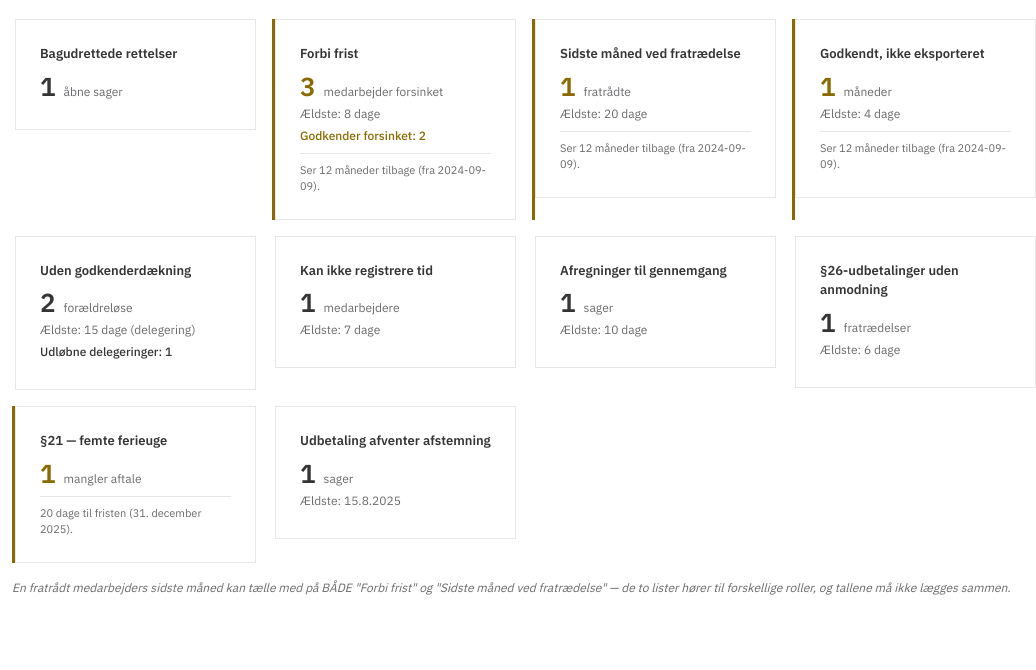
it: OpfoelgningPage — read-only lists (owner ruling OQ-4) › the payout-pending list states its action is handled via the API and offers no form
The image size is (1036, 670).
Click the button with test id "tile-payout-pending".
click(396, 472)  # box [300, 431, 491, 514]
(page scrolled)
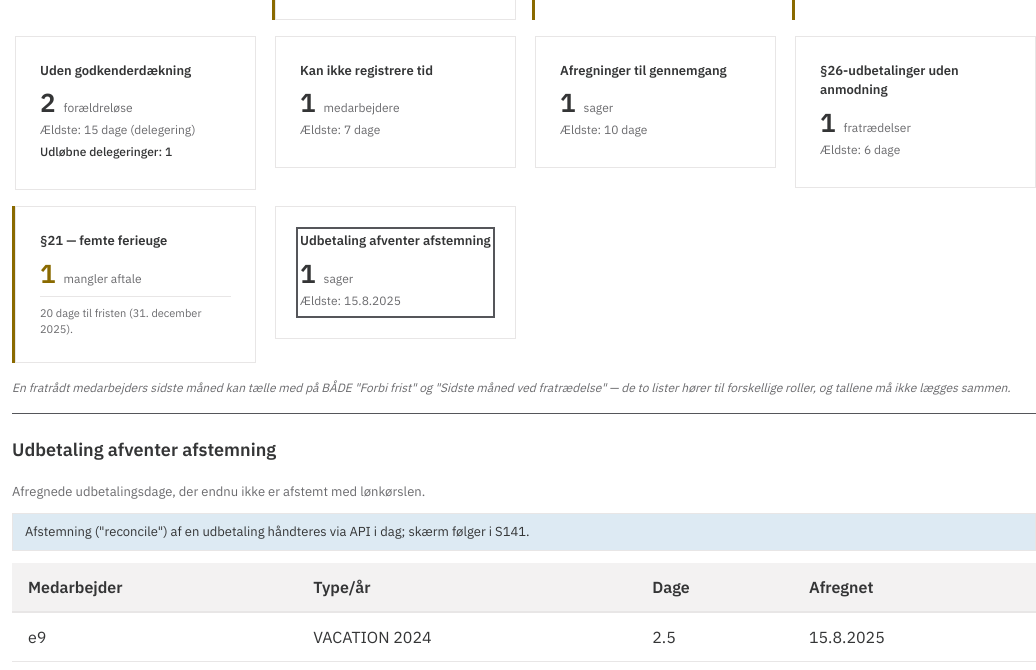
Result: the text with test id "list-payout-pending-action-note" shows "reconcile" at [25, 523, 264, 540]
